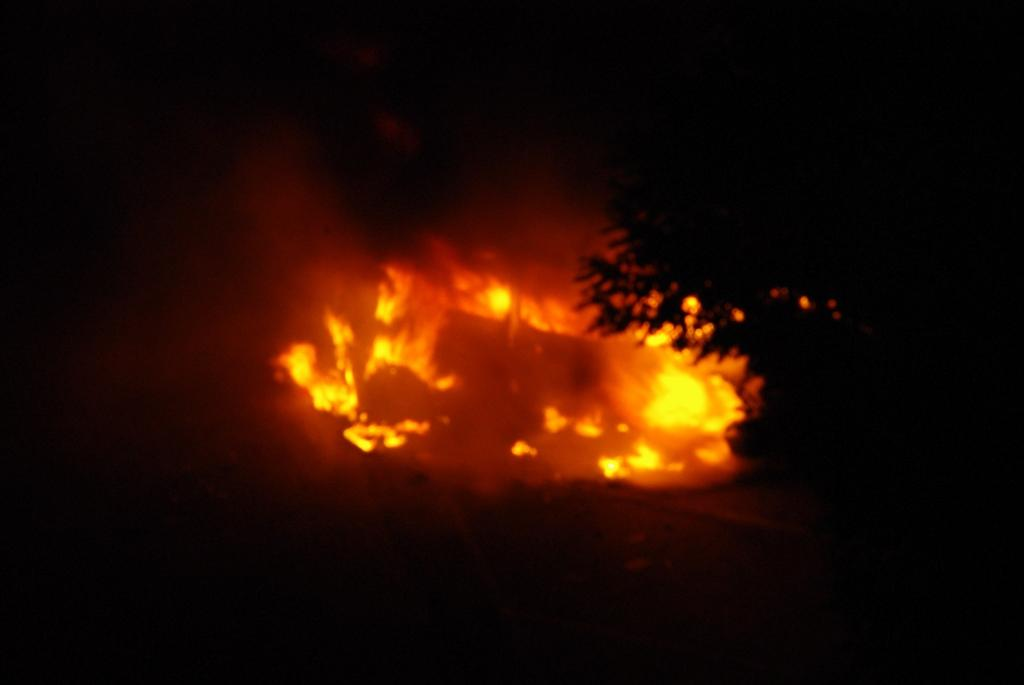fire: (645, 342, 740, 467), (378, 277, 450, 378), (312, 358, 365, 425)
